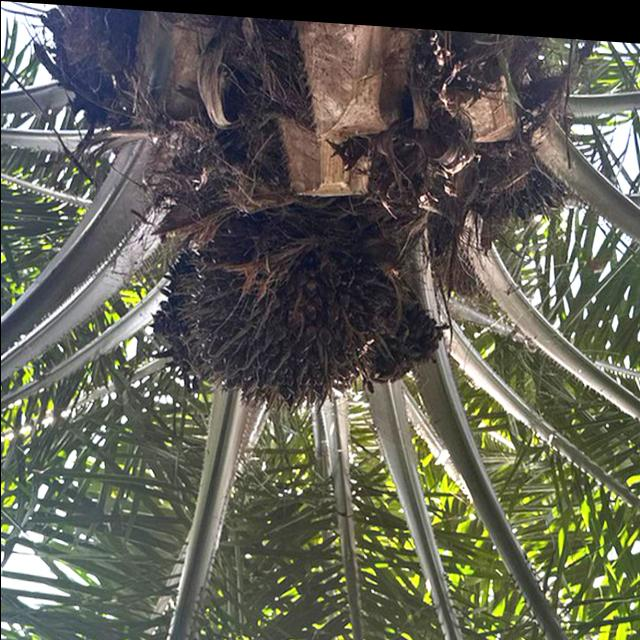ripe: (172, 204, 426, 416)
